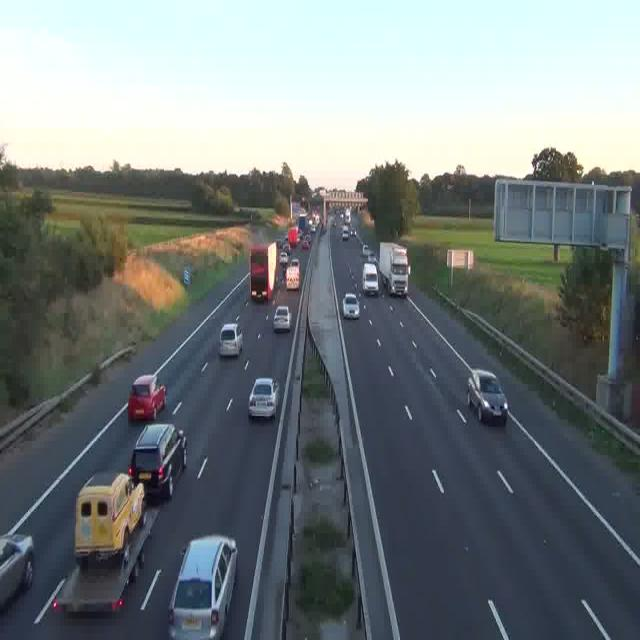car: (169, 536, 237, 640), (129, 424, 185, 501), (0, 533, 35, 608), (468, 369, 508, 425), (128, 374, 166, 422), (249, 377, 278, 418), (219, 322, 243, 357), (273, 306, 291, 332), (342, 292, 360, 318), (362, 246, 372, 262), (280, 252, 289, 266), (301, 236, 309, 249)
truck: (378, 241, 408, 294), (249, 243, 273, 300), (288, 216, 300, 242), (286, 266, 298, 290), (344, 211, 352, 233)
